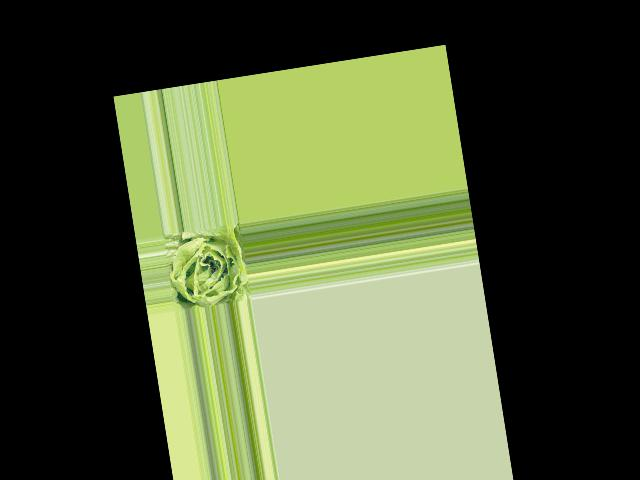lettuce: (163, 222, 250, 310)
